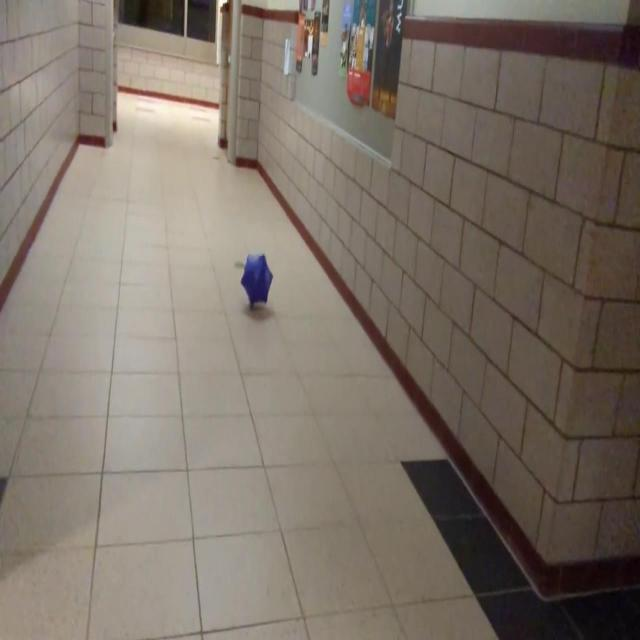frc_cube: (241, 252, 272, 306)
